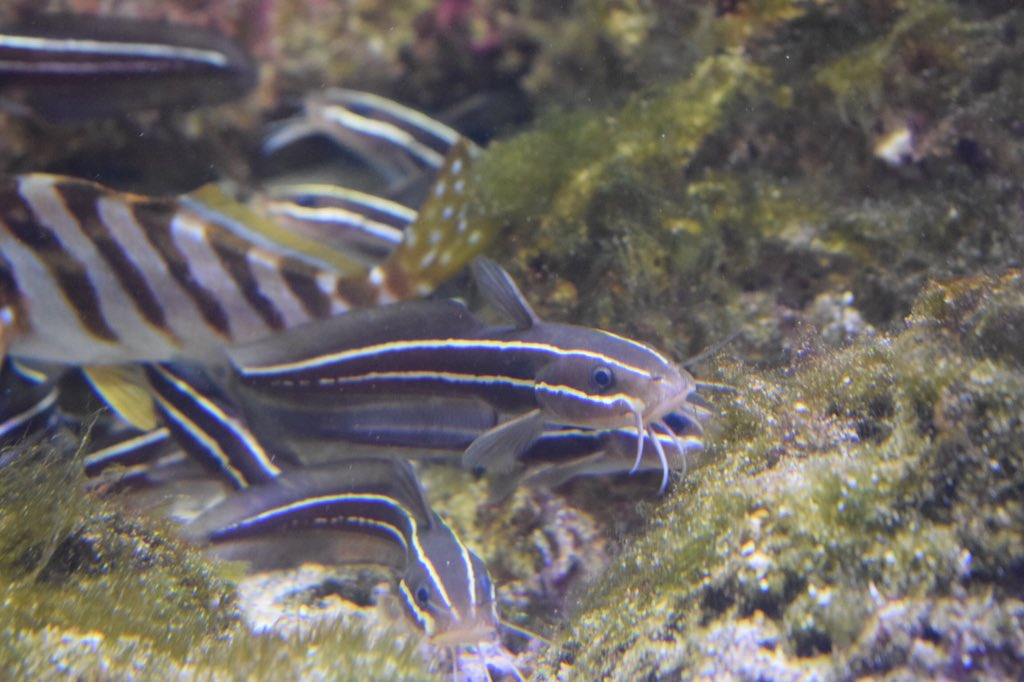gonzui: (221, 280, 727, 439)
